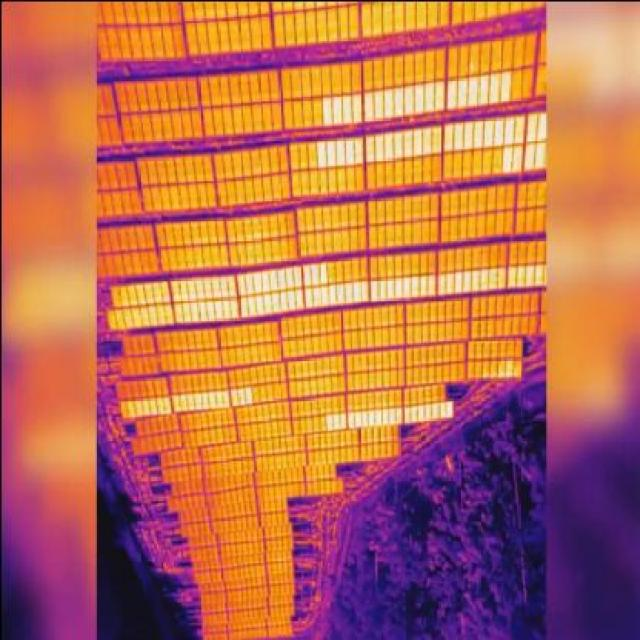diode: (465, 76, 478, 107), (500, 70, 511, 104), (434, 80, 444, 112), (414, 81, 424, 112), (394, 83, 404, 114), (513, 113, 524, 141), (501, 116, 512, 144), (489, 70, 498, 104), (367, 134, 378, 161), (353, 134, 364, 161), (140, 278, 152, 302), (523, 144, 534, 170), (456, 77, 467, 103), (446, 79, 456, 107), (480, 72, 489, 103), (513, 257, 522, 288), (248, 270, 260, 292), (492, 119, 501, 147), (461, 120, 470, 148), (351, 92, 360, 120), (333, 95, 342, 123), (326, 140, 336, 165), (502, 144, 511, 171), (480, 121, 489, 148), (404, 85, 413, 112), (383, 89, 392, 116), (341, 94, 350, 121), (384, 134, 394, 158), (321, 97, 330, 123), (166, 280, 179, 298), (527, 112, 536, 137), (143, 299, 152, 324), (373, 90, 381, 118), (372, 278, 382, 300), (314, 260, 324, 282), (512, 145, 520, 172), (471, 122, 480, 146), (441, 125, 450, 149), (421, 127, 430, 151), (412, 127, 421, 151), (364, 94, 373, 118), (523, 264, 532, 288), (461, 269, 470, 293), (404, 131, 414, 152), (286, 265, 296, 286), (206, 276, 217, 295), (536, 111, 544, 137), (376, 134, 384, 160), (336, 138, 344, 164), (396, 133, 404, 158), (477, 268, 486, 290), (274, 286, 283, 308), (257, 288, 266, 310), (300, 262, 309, 284), (218, 296, 227, 318), (174, 279, 183, 301), (536, 144, 544, 168), (345, 138, 353, 162), (136, 302, 144, 326), (258, 269, 268, 288), (132, 282, 142, 301), (432, 125, 439, 152), (425, 81, 432, 108), (351, 281, 360, 302), (125, 397, 134, 418), (314, 140, 321, 166), (126, 307, 136, 325), (222, 275, 232, 293), (505, 266, 513, 288), (382, 278, 390, 300), (310, 285, 318, 307), (233, 270, 241, 292), (170, 302, 178, 324), (150, 279, 158, 301), (201, 299, 210, 318), (118, 283, 127, 302), (451, 124, 458, 148), (534, 262, 541, 286), (227, 294, 235, 315), (263, 268, 272, 286), (271, 267, 280, 285), (214, 275, 223, 293), (177, 305, 186, 323), (160, 305, 169, 323), (117, 307, 126, 325), (419, 273, 426, 295), (268, 289, 275, 311), (234, 294, 243, 311), (409, 276, 417, 295), (110, 308, 118, 327), (126, 283, 134, 302), (199, 275, 206, 296), (496, 358, 504, 376), (357, 281, 365, 299), (183, 277, 191, 295), (152, 305, 160, 323), (192, 274, 198, 298), (498, 266, 504, 289), (392, 276, 399, 295), (211, 299, 218, 318), (158, 279, 165, 298), (171, 392, 178, 411), (472, 269, 478, 291), (326, 282, 332, 304), (308, 260, 314, 282), (186, 300, 192, 322), (140, 393, 146, 415), (250, 292, 258, 308), (488, 268, 494, 289), (454, 271, 460, 292), (446, 271, 452, 292), (428, 272, 434, 293), (342, 281, 349, 299), (242, 271, 248, 292), (194, 297, 200, 318), (430, 401, 438, 416), (243, 295, 251, 310), (196, 391, 204, 406), (379, 408, 387, 423), (162, 394, 169, 411), (388, 406, 394, 425), (401, 278, 407, 297), (282, 265, 288, 284), (190, 389, 196, 408), (327, 412, 335, 426), (154, 395, 161, 411), (438, 275, 444, 293), (366, 280, 372, 298), (333, 282, 339, 300), (301, 288, 307, 306), (293, 288, 299, 306), (213, 388, 219, 406), (181, 391, 187, 409), (146, 397, 152, 415), (504, 356, 510, 373), (286, 290, 292, 307), (244, 384, 250, 401), (394, 405, 400, 421), (353, 408, 359, 424), (336, 411, 342, 427), (237, 386, 243, 402), (444, 401, 450, 417), (133, 398, 139, 414), (319, 286, 324, 305), (206, 391, 212, 406), (221, 388, 227, 403), (543, 141, 546, 170), (416, 404, 422, 418), (346, 412, 352, 426), (438, 400, 444, 414), (230, 389, 236, 403), (410, 406, 416, 419), (402, 407, 408, 419), (367, 410, 373, 422), (360, 411, 365, 424), (424, 401, 428, 417), (375, 409, 379, 423)
hotspot: (512, 370, 518, 375)
